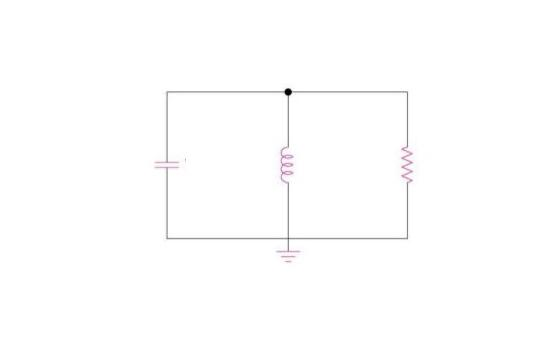resistor: (392, 127, 422, 193)
